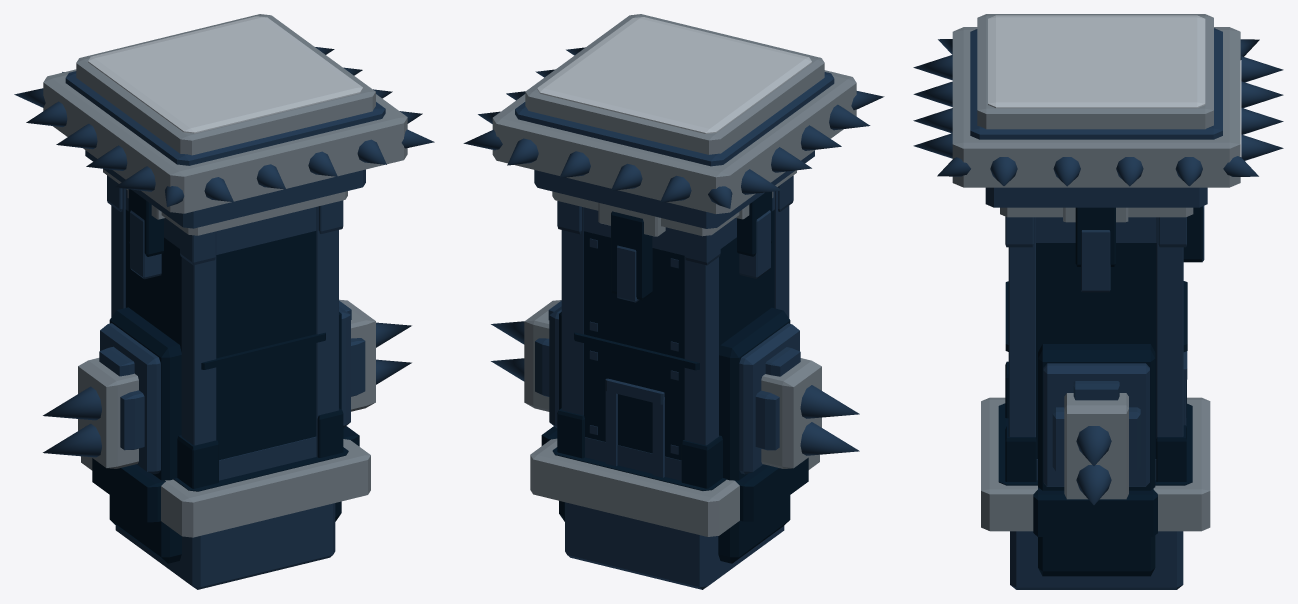
File: 3D_RemovableBoss.fbx
The picture shows the model from 3 angles, left to right: view 1: azimuth 30°, elevation 25°; view 2: azimuth 150°, elevation 25°; view 3: azimuth 270°, elevation 25°; orthographic projection. The views are drawn at different scales.
Visible parts, largest first — view 1: 3D_RemovableBossTower; view 2: 3D_RemovableBossTower; view 3: 3D_RemovableBossTower.
Boxes of the visible parts, x1,y1,x2,y2 form: 3D_RemovableBossTower: (14,14,434,589); 3D_RemovableBossTower: (463,14,884,589); 3D_RemovableBossTower: (913,14,1283,589).
Size of the model in its own units: 490 by 597 by 405.
1 material, 1 textured.
